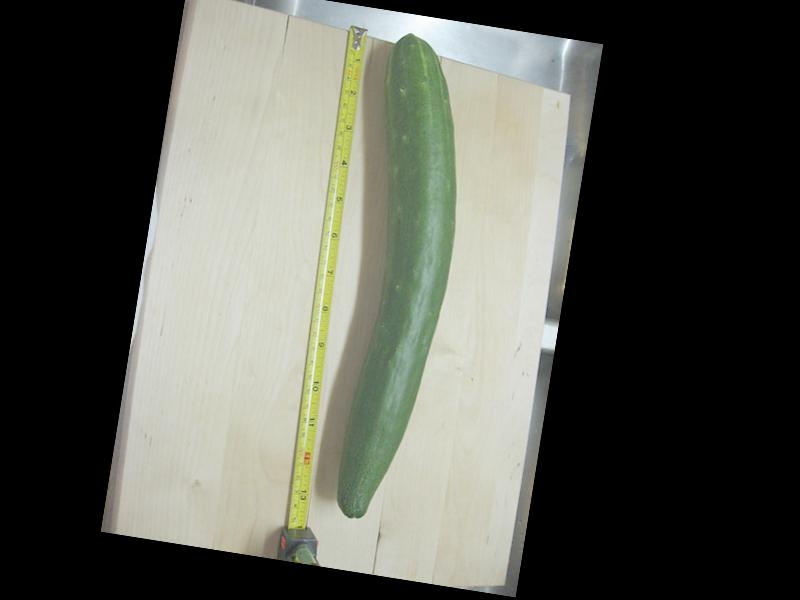Cucumber: (315, 30, 484, 527)
